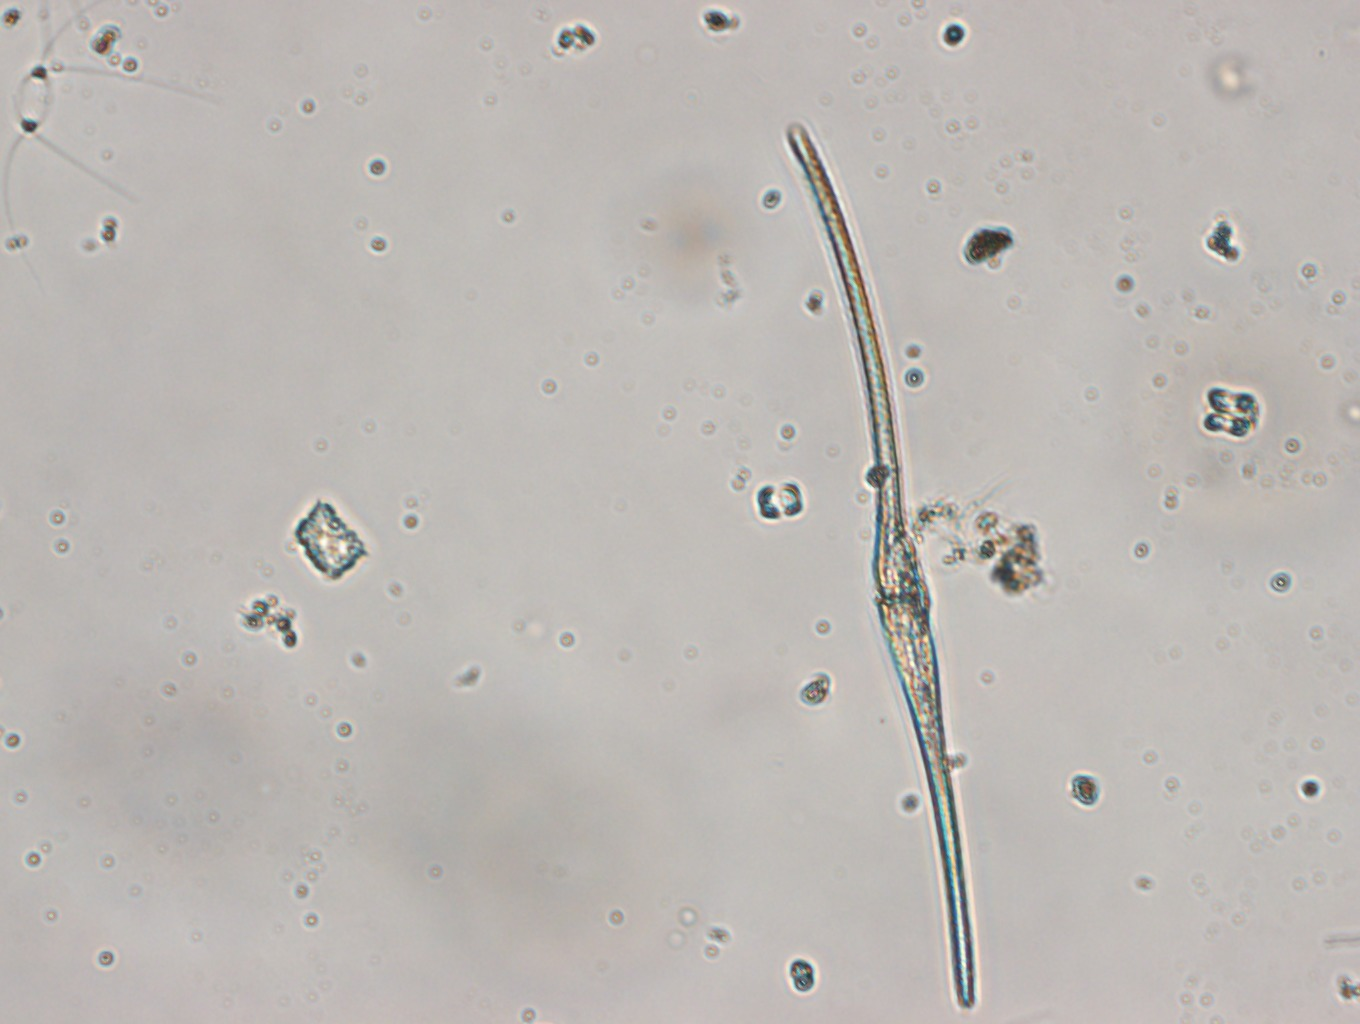ceratium fusus: (773, 114, 1012, 1009)
chaetoceros: (11, 11, 198, 223)
